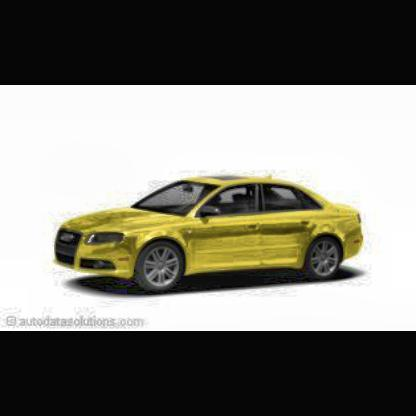Audi S4 Sedan 2007: (54, 174, 365, 297)
